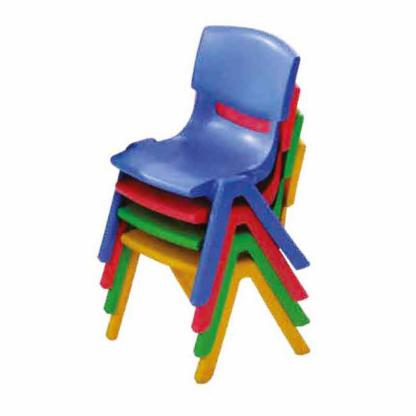chair: (103, 25, 323, 398)
